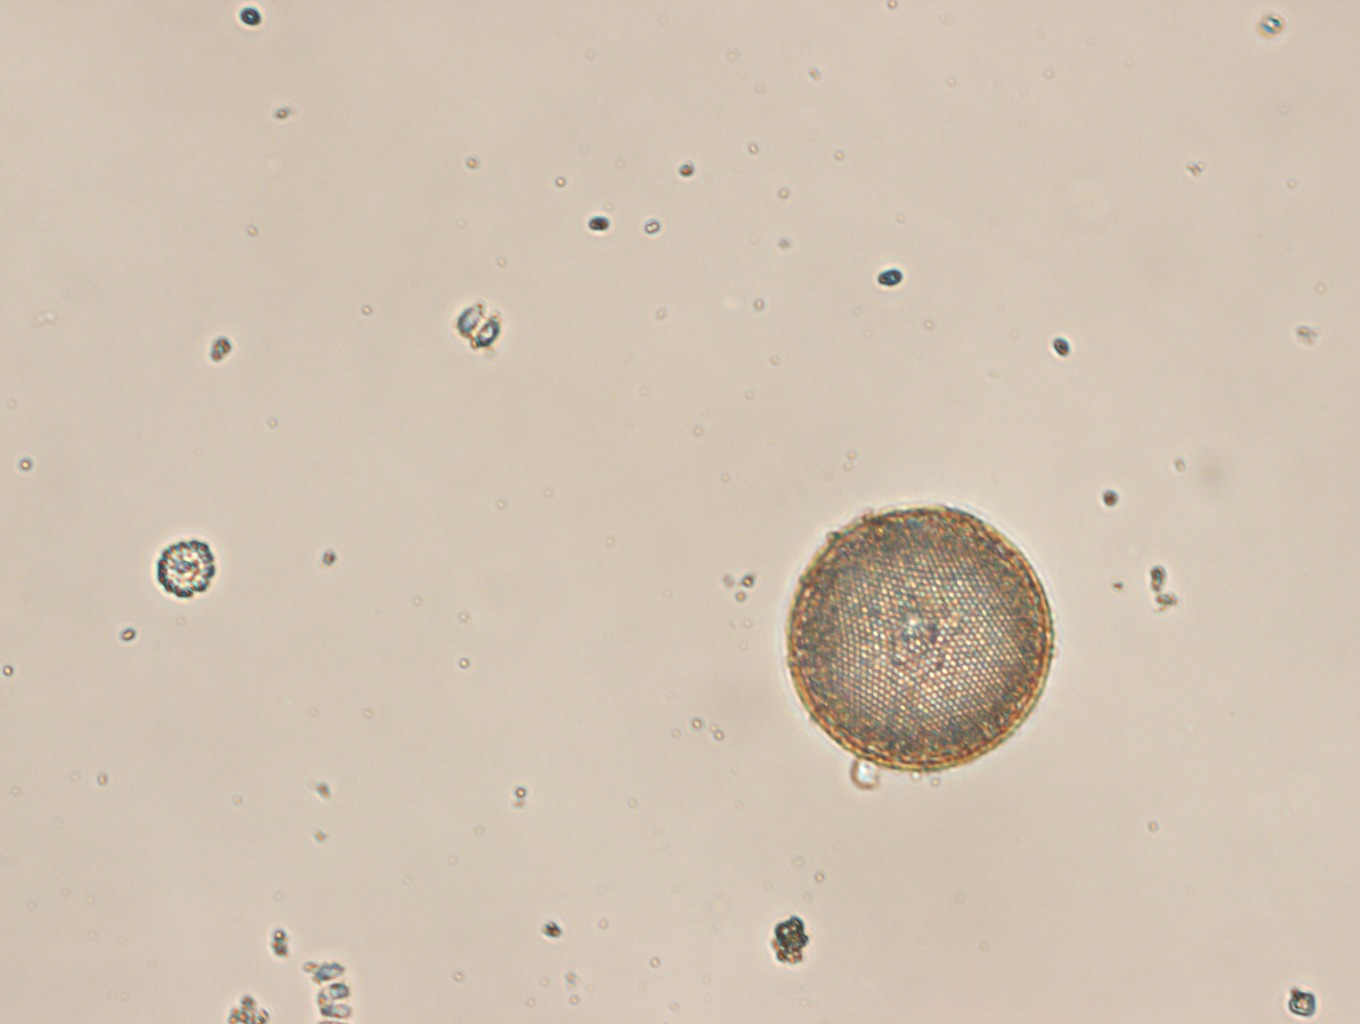coscinodiscus: (782, 502, 1057, 777)
